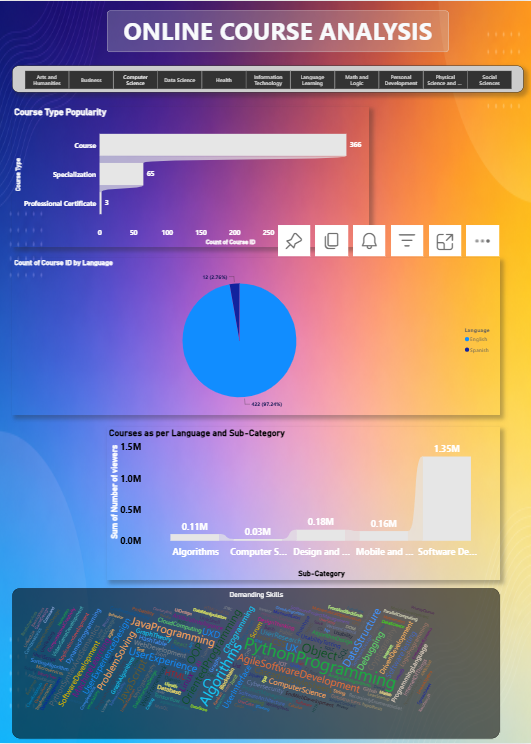

This screenshot's page, from the dashboard's own definition file:
{"tool":"powerbi","page":{"name":"Page 1","canvas":[1300,1800],"ordinal":0},"visuals":[{"type":"textbox","box":[267.1,22.9,828.6,100],"z":0},{"type":"slicer","fields":{"Values":["Online_Courses.Category"]},"box":[37.5,157.5,1240,65],"z":1000},{"type":"barChart","title":"Course Type Popularity","fields":{"Category":["Online_Courses.Course Type"],"Y":["CountNonNull(Online_Courses.Course ID)"]},"box":[38,258,866,340],"z":2000},{"type":"columnChart","title":"Courses as per Language and Sub-Category","fields":{"Category":["Online_Courses.Sub-Category","Online_Courses.Language"],"Y":["Sum(Online_Courses.Number of viewers)"]},"box":[267.5,1032.5,952.5,370],"z":3000},{"type":"WordCloud1447959067750","title":"Demanding Skills","fields":{"Category":["Online_Courses.Skills"]},"box":[38,1422,1182,364],"z":4000},{"type":"pieChart","fields":{"Category":["Online_Courses.Language"],"Y":["CountNonNull(Online_Courses.Course ID)"]},"box":[38,624,1182,380],"z":5000}]}

Visuals, with their boxes in screenshot pixels (x1, y1, x2, y2), scaled from the page's 1300x1800 canvas onto the 531x744 screenshot:
textbox: box=[109, 9, 448, 51]
slicer - Online_Courses.Category: box=[15, 65, 522, 92]
"Course Type Popularity" barChart: box=[16, 107, 369, 247]
"Courses as per Language and Sub-Category" columnChart: box=[109, 427, 498, 580]
"Demanding Skills" WordCloud1447959067750: box=[16, 588, 498, 738]
pieChart - Online_Courses.Language x CountNonNull(Online_Courses.Course ID): box=[16, 258, 498, 415]
